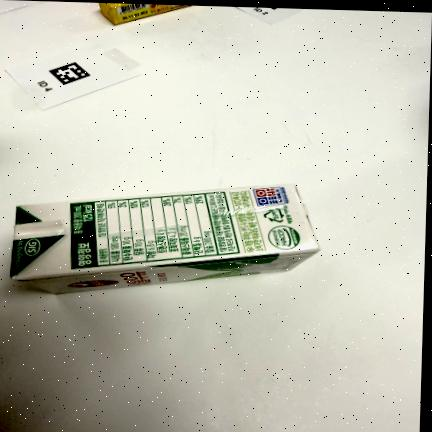milk_green: (9, 182, 320, 295)
